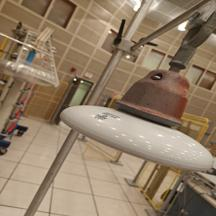insulator: (55, 59, 216, 175)
